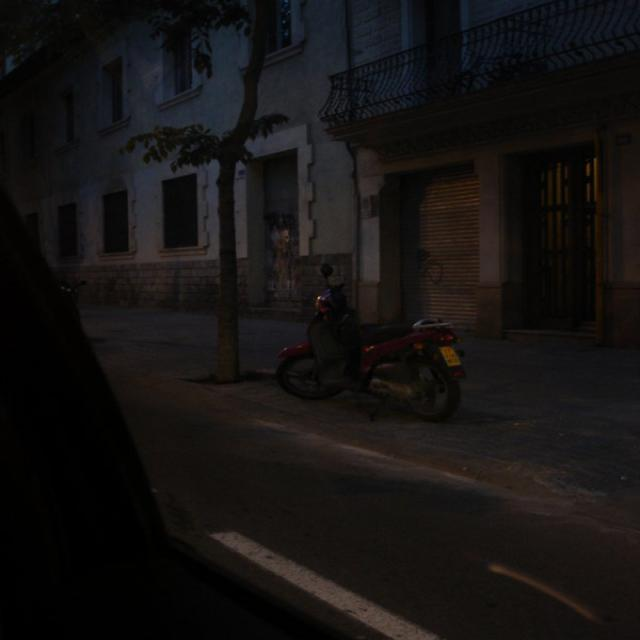Motorbike: (234, 264, 490, 460)
